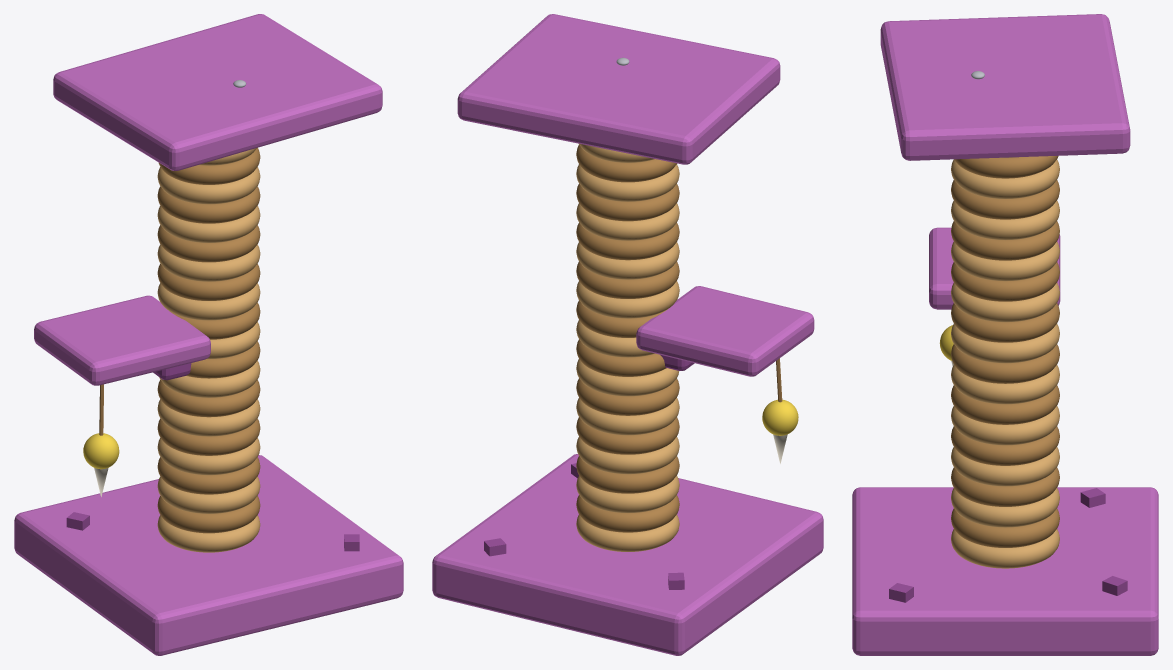
File: zc_scratch_post_ruin.glb
The picture shows the model from 3 angles, left to right: view 1: azimuth 30°, elevation 25°; view 2: azimuth 150°, elevation 25°; view 3: azimuth 270°, elevation 25°; orthographic projection. The views are drawn at different scales.
Visible parts, largest first — view 1: zc_scratch_post_ruin; view 2: zc_scratch_post_ruin; view 3: zc_scratch_post_ruin.
Boxes of the visible parts, left/top/right/bottom form: zc_scratch_post_ruin: left=14, top=14, right=403, bottom=655; zc_scratch_post_ruin: left=432, top=14, right=823, bottom=655; zc_scratch_post_ruin: left=852, top=14, right=1158, bottom=655.
Bounding box in the file's own units: 0.6248 × 1.07 × 0.56.
1 material, 1 textured.
